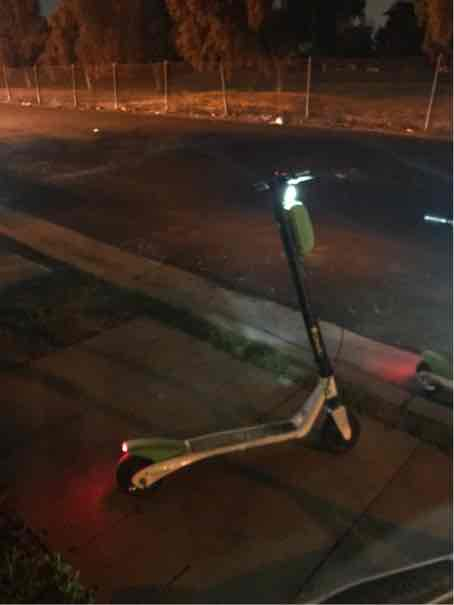scooter: (102, 146, 368, 503)
